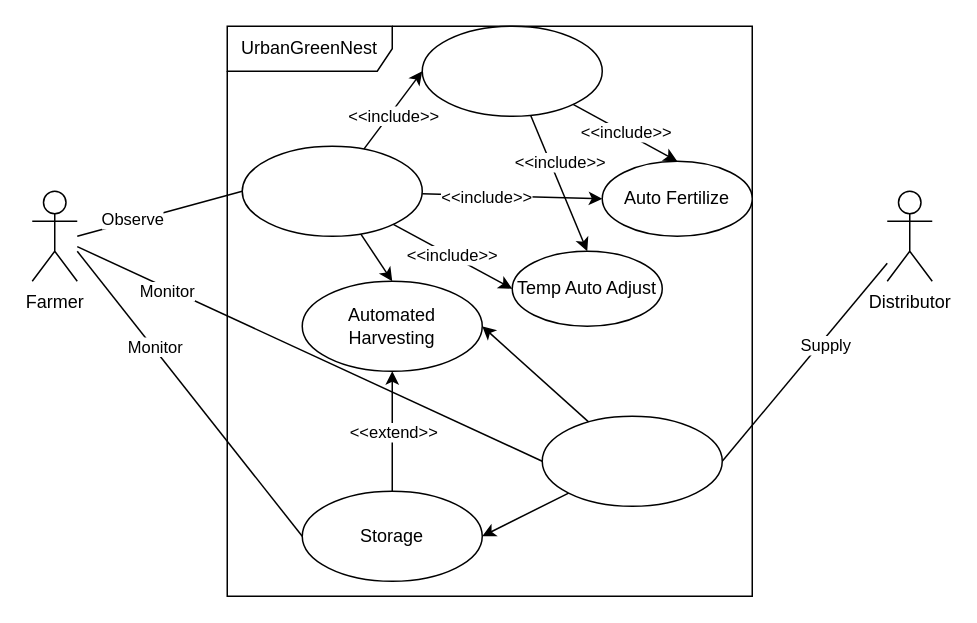
Some shapes in this 977 by 623 pixel diagram are drawn without their labels. The shapes that lost their labels are listed below. From the top down, each one's centre as x and y in pixels, then its label:
(511,70): Farm Monitoring
(331,190): Automated Farming
(631,460): Delivery
